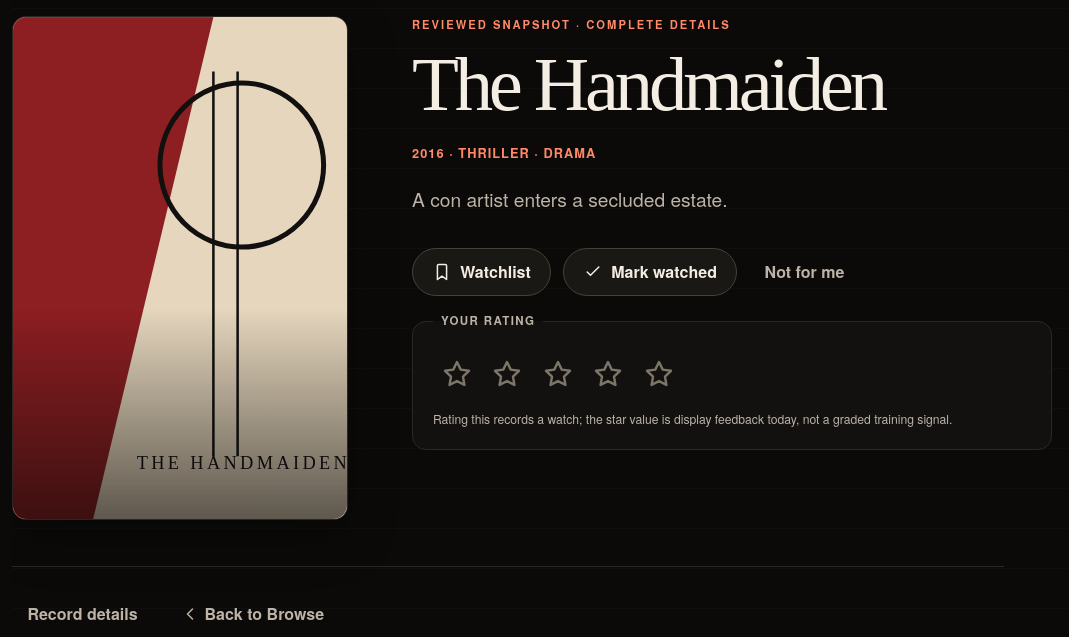
Scenario: canonical state controls › rolls back and returns focus to the control when a write fails
This screenshot has width=1069, height=637.
Click the button "Watchlist".
click(482, 272)  # box x1=412 y1=248 x2=551 y2=296
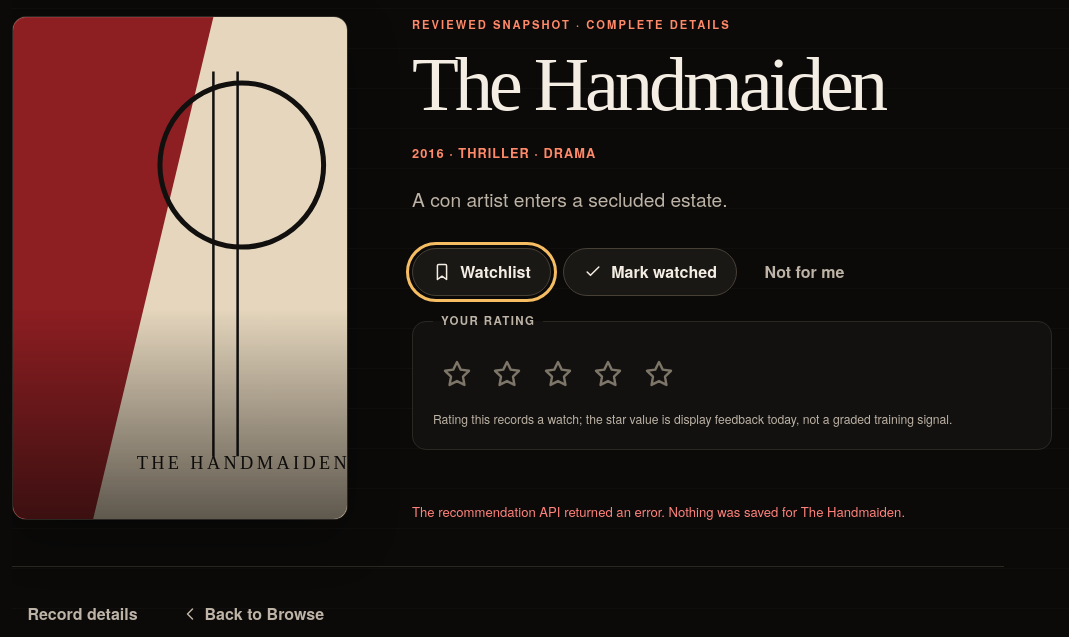
expect the 2nd message reads "The recommendation API returned an error. Nothing was saved for The Handmaiden.": met, box x1=412 y1=502 x2=905 y2=520
